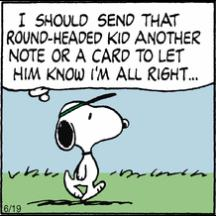snoopy: (54, 92, 130, 202)
